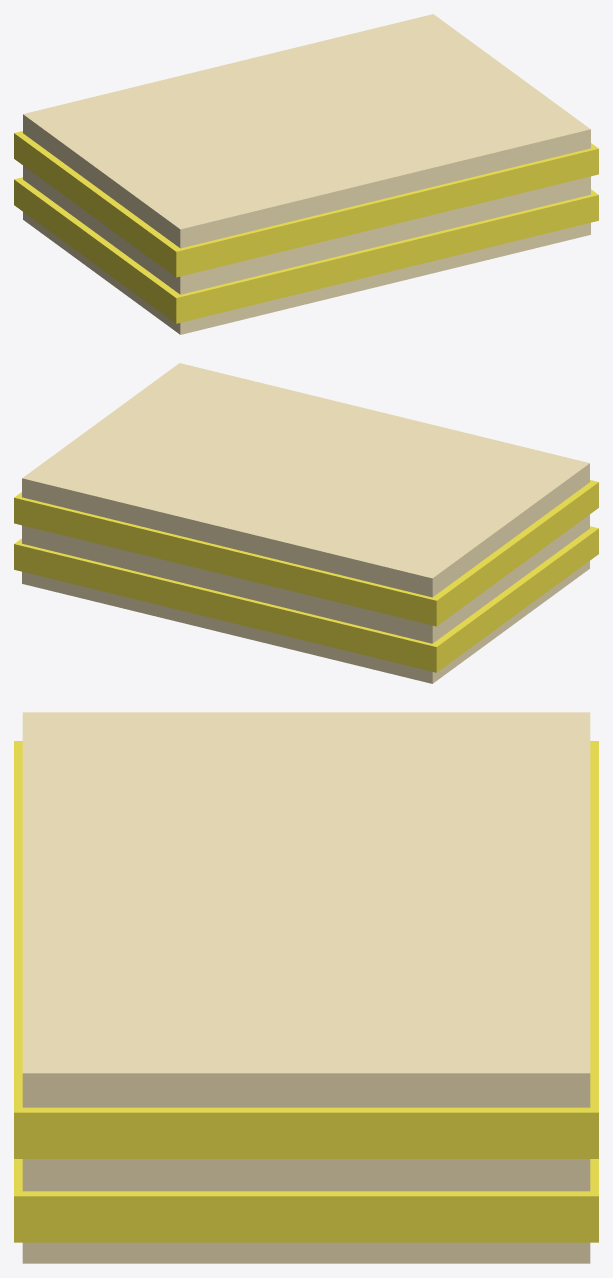
Rendered from boloretangulo abacaxi.glb.
The picture shows the model from 3 angles, top to bottom: view 1: azimuth 30°, elevation 25°; view 2: azimuth 150°, elevation 25°; view 3: azimuth 270°, elevation 25°; orthographic projection. The views are drawn at different scales.
Parts seen in each view (by area): view 1: Cube.003, Cube.002, Cube.001; view 2: Cube.003, Cube.002, Cube.001; view 3: Cube.003, Cube.001, Cube.002.
Part boxes in pixels (bbox=[...]): Cube.003: bbox=[23, 14, 590, 334]; Cube.002: bbox=[14, 177, 598, 323]; Cube.001: bbox=[14, 131, 598, 277]; Cube.003: bbox=[22, 363, 589, 683]; Cube.002: bbox=[14, 526, 598, 672]; Cube.001: bbox=[14, 480, 598, 626]; Cube.003: bbox=[22, 712, 590, 1263]; Cube.001: bbox=[14, 741, 598, 1158]; Cube.002: bbox=[14, 1159, 598, 1242].
Size of the model in its own units: 3.1 by 0.7391 by 2.06.
